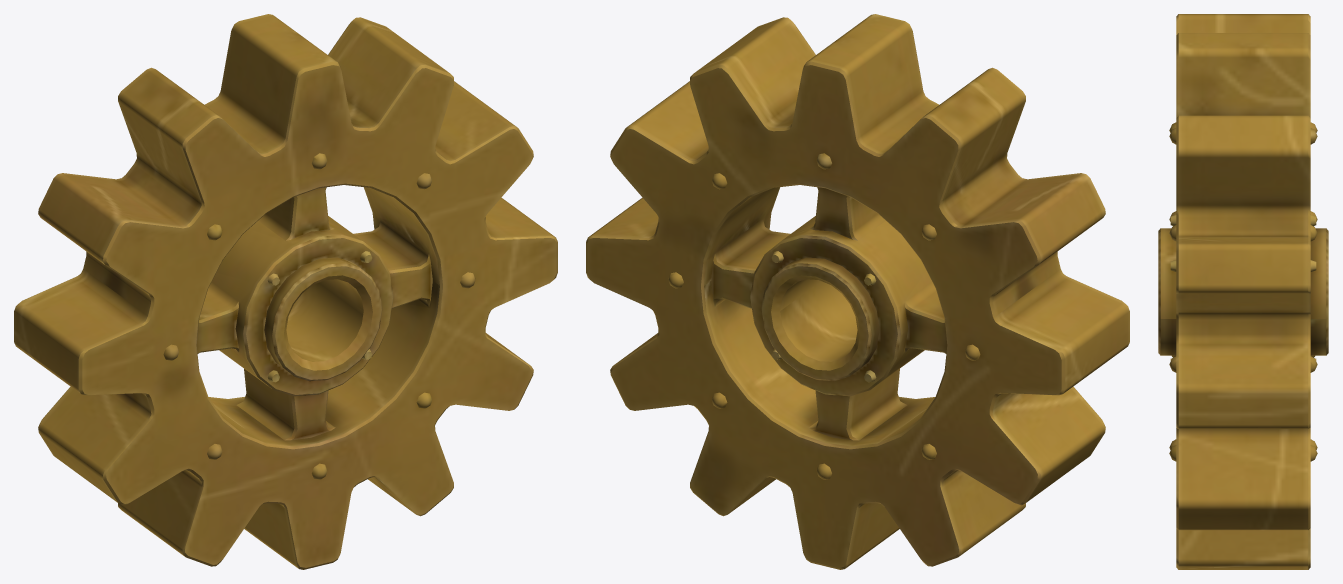
Rendered from gear_spur_12_brass.glb.
3 renders of one model, left to right at view 1: azimuth 30°, elevation 25°; view 2: azimuth 150°, elevation 25°; view 3: azimuth 270°, elevation 25°, orthographic.
Visible parts, largest first — view 1: GearSpur12_Brass; view 2: GearSpur12_Brass; view 3: GearSpur12_Brass.
Boxes of the visible parts, <box> form: GearSpur12_Brass: <box>14,14,557,569</box>; GearSpur12_Brass: <box>586,14,1129,569</box>; GearSpur12_Brass: <box>1158,14,1328,569</box>.
Bounding box in the file's own units: 0.0495 × 0.0495 × 0.0152.
1 material, 1 textured.
